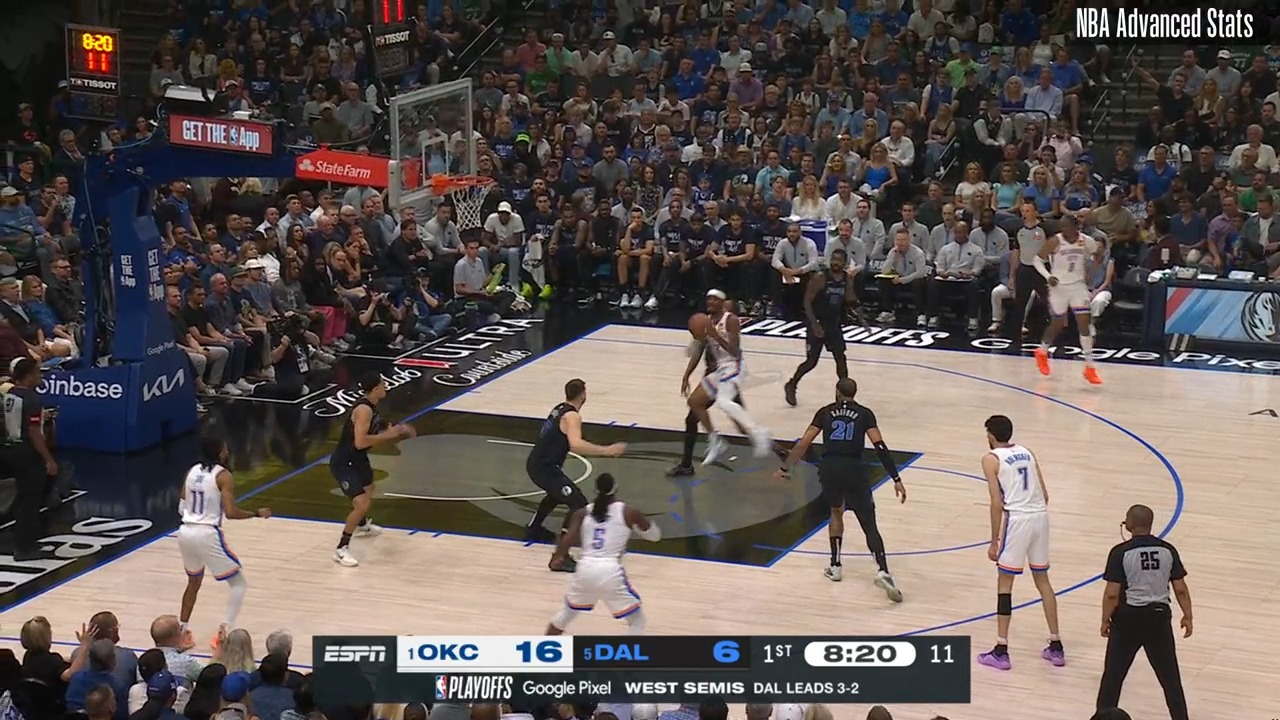basketball: (686, 313, 713, 339)
